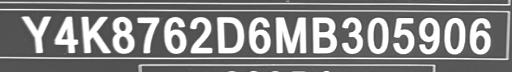letter: (273, 15, 309, 54), (78, 14, 112, 54), (18, 15, 52, 54), (216, 14, 246, 54), (310, 14, 338, 54), (52, 15, 80, 54), (188, 15, 214, 54), (246, 15, 272, 54), (364, 15, 390, 54), (416, 15, 442, 54), (468, 15, 494, 54), (110, 15, 136, 53), (162, 15, 188, 53), (390, 16, 416, 53), (442, 14, 466, 54), (136, 15, 160, 54), (340, 15, 364, 53)
